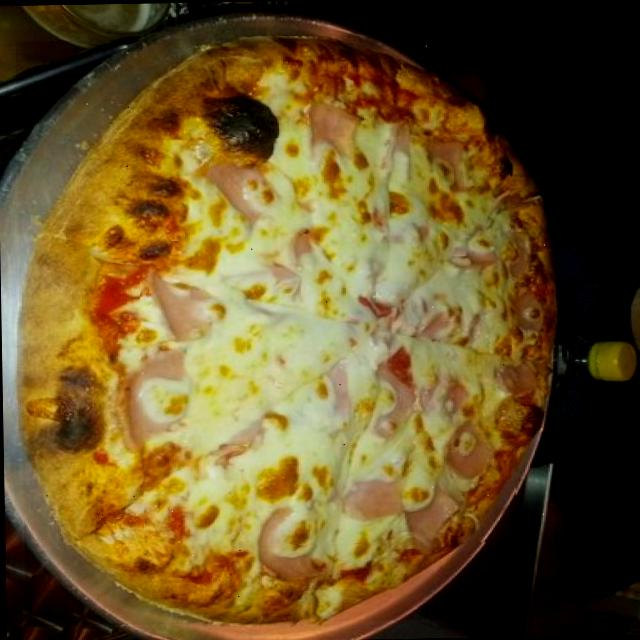cheese: (136, 134, 515, 548)
pizza: (20, 38, 553, 623)
